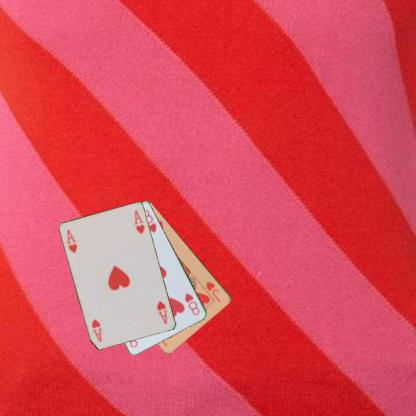8h: (183, 290, 201, 316)
Ah: (64, 227, 79, 254), (154, 299, 169, 325)
Jh: (204, 279, 222, 303)
